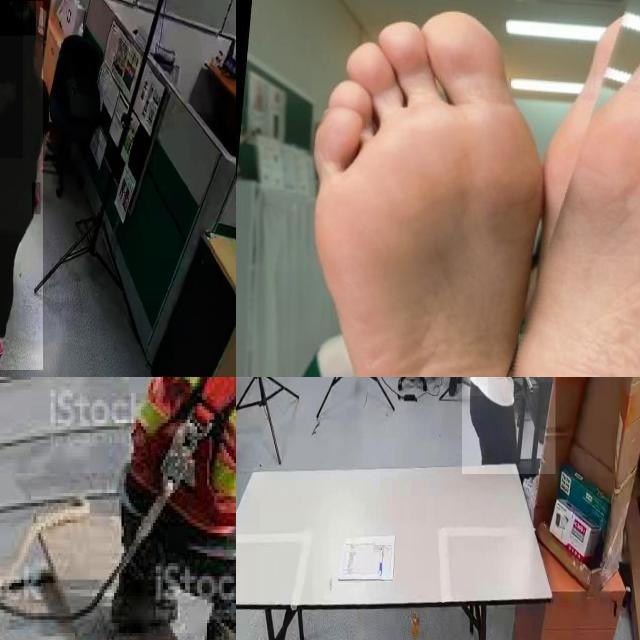Barefoots: (305, 4, 551, 377), (507, 56, 640, 377)
Harness: (119, 377, 236, 604)
hand_noglove: (32, 182, 41, 215)
head_nohelmet: (0, 0, 36, 36)
person: (0, 1, 43, 371), (462, 377, 556, 474), (0, 0, 23, 158)
shoes: (0, 305, 7, 360), (446, 377, 461, 398)
